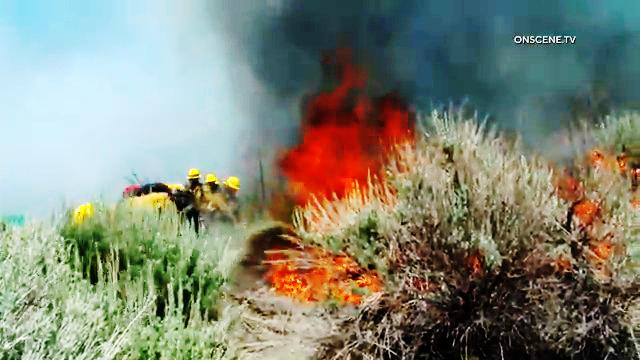fire: (287, 55, 384, 192), (275, 240, 386, 304)
smoke: (494, 61, 640, 158), (408, 19, 517, 119)
